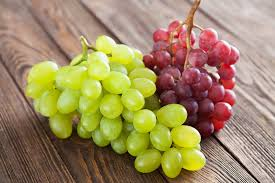Green grapes: (56, 58, 189, 168)
Red Grapes: (172, 35, 225, 141)
